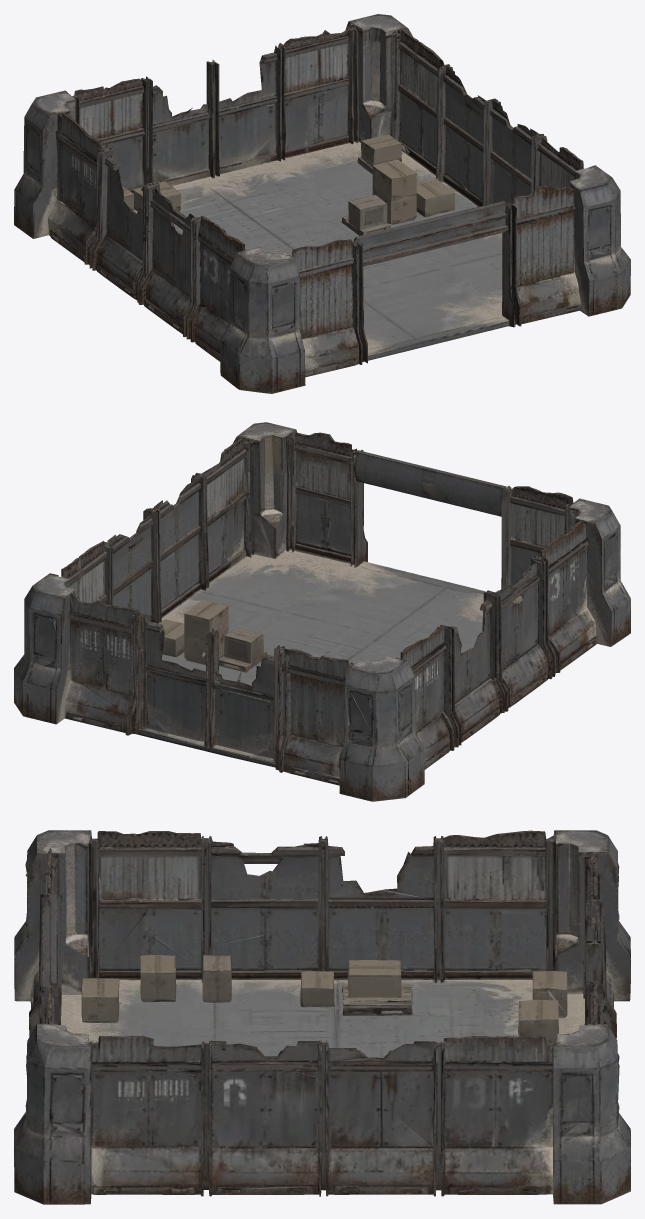
Rendered from struct.depot.glb.
3 views of the same model, one above another, from view 1: azimuth 30°, elevation 25°; view 2: azimuth 150°, elevation 25°; view 3: azimuth 270°, elevation 25° (orthographic). The views are drawn at different scales.
Parts seen in each view (by area): view 1: body; view 2: body; view 3: body.
Part boxes in pixels (x1=…): body: x1=14, y1=14, x2=630, y2=393; body: x1=14, y1=422, x2=630, y2=801; body: x1=14, y1=830, x2=630, y2=1204.
Bounding box in the file's own units: 1.9 × 0.5938 × 2.1.
1 material, 1 textured.
